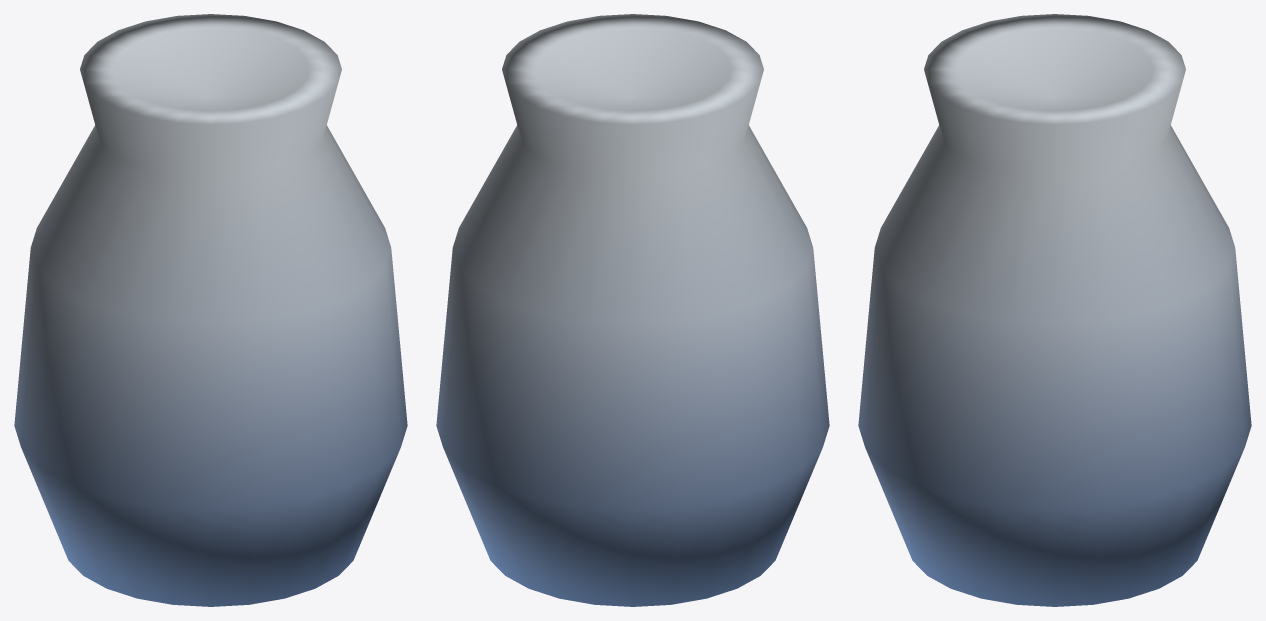
The model's file is furn_flower_vase.glb.
3 renders of one model, left to right at view 1: azimuth 30°, elevation 25°; view 2: azimuth 150°, elevation 25°; view 3: azimuth 270°, elevation 25°, orthographic.
Visible parts, largest first — view 1: furn_flower_vase_gloss; view 2: furn_flower_vase_gloss; view 3: furn_flower_vase_gloss.
Part boxes in pixels (bbox=[...]): furn_flower_vase_gloss: bbox=[14, 14, 407, 606]; furn_flower_vase_gloss: bbox=[436, 14, 829, 606]; furn_flower_vase_gloss: bbox=[858, 14, 1251, 606].
Size of the model in its own units: 0.12 by 0.16 by 0.12.
